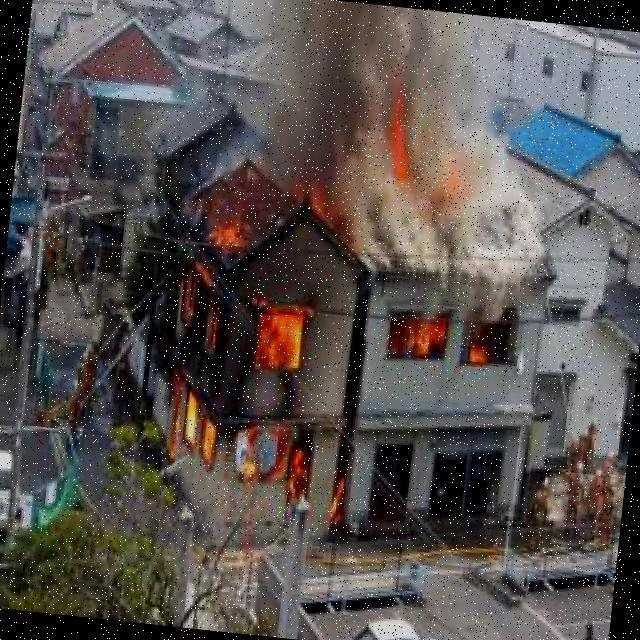Fire: (133, 168, 343, 504), (374, 115, 476, 215), (383, 307, 520, 368)
